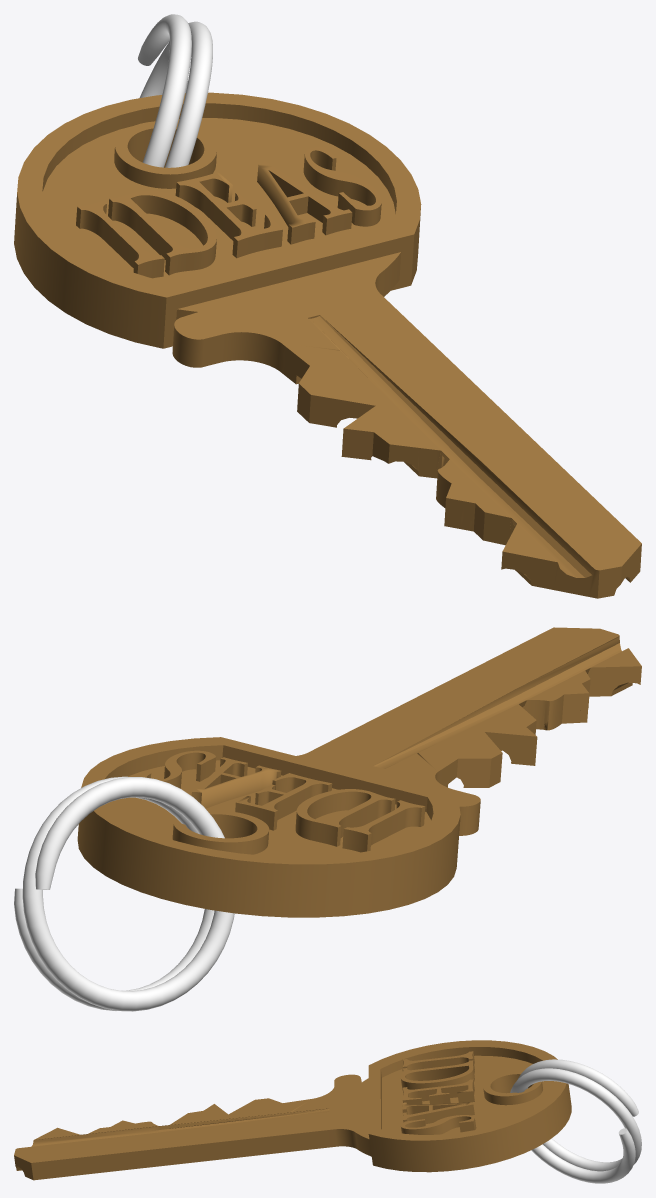
File: key.FBX
3 renders of one model, top to bottom at view 1: azimuth 30°, elevation 25°; view 2: azimuth 150°, elevation 25°; view 3: azimuth 270°, elevation 25°, orthographic. The views are drawn at different scales.
Visible parts, largest first — view 1: key01, key04; view 2: key01, key04; view 3: key01, key04.
Part boxes in pixels (bbox=[...]): key01: bbox=[14, 92, 641, 598]; key04: bbox=[138, 14, 212, 167]; key01: bbox=[77, 627, 641, 917]; key04: bbox=[14, 776, 234, 1011]; key01: bbox=[14, 1040, 571, 1180]; key04: bbox=[510, 1059, 641, 1183].
Bounding box in the file's own units: 1.38 × 0.8439 × 3.7.
